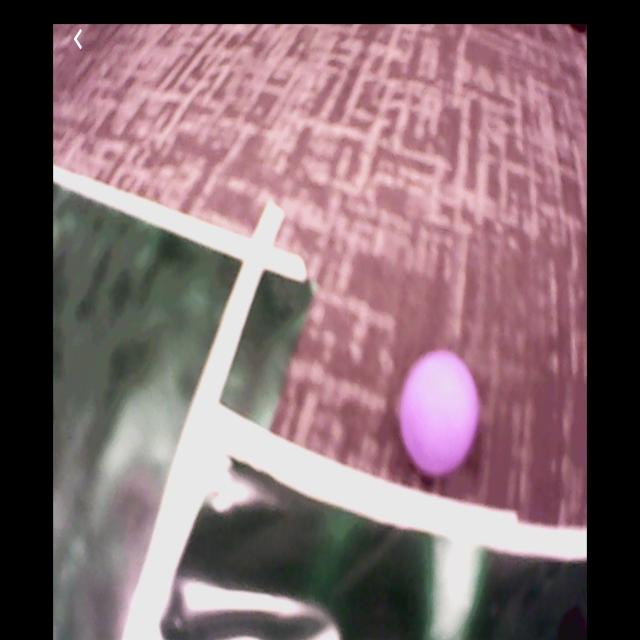ball: (401, 351, 480, 472)
